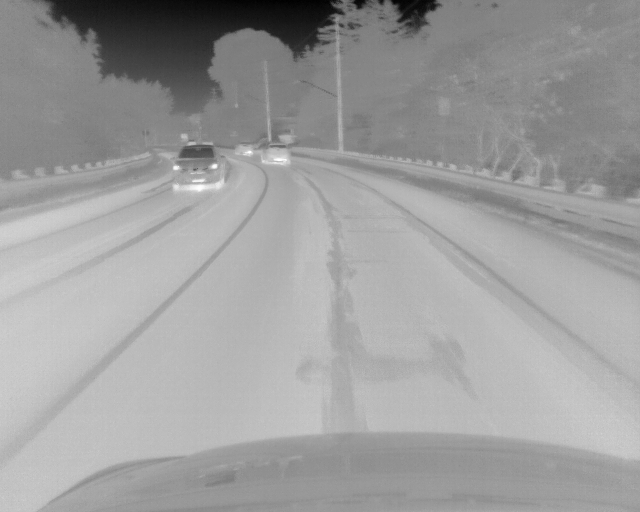car: (173, 143, 223, 189), (259, 143, 292, 167), (235, 143, 253, 157)
